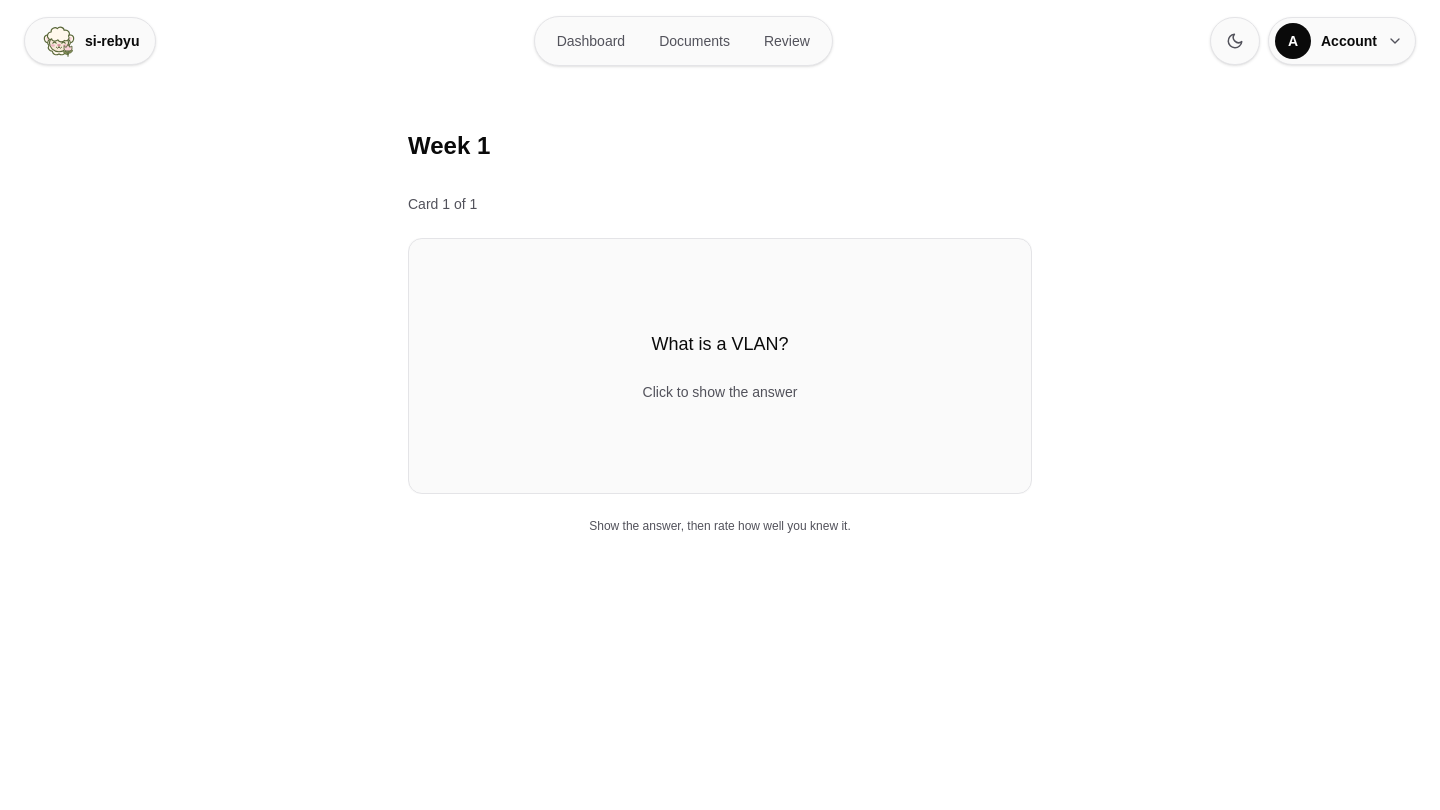
Scenario: FlashcardSession › finishing shows the summary and calls onDone, ending the session
Later steps or results of the test are not shown.
Click the text "What is a VLAN?". click: (720, 344)
box: [652,334,789,354]
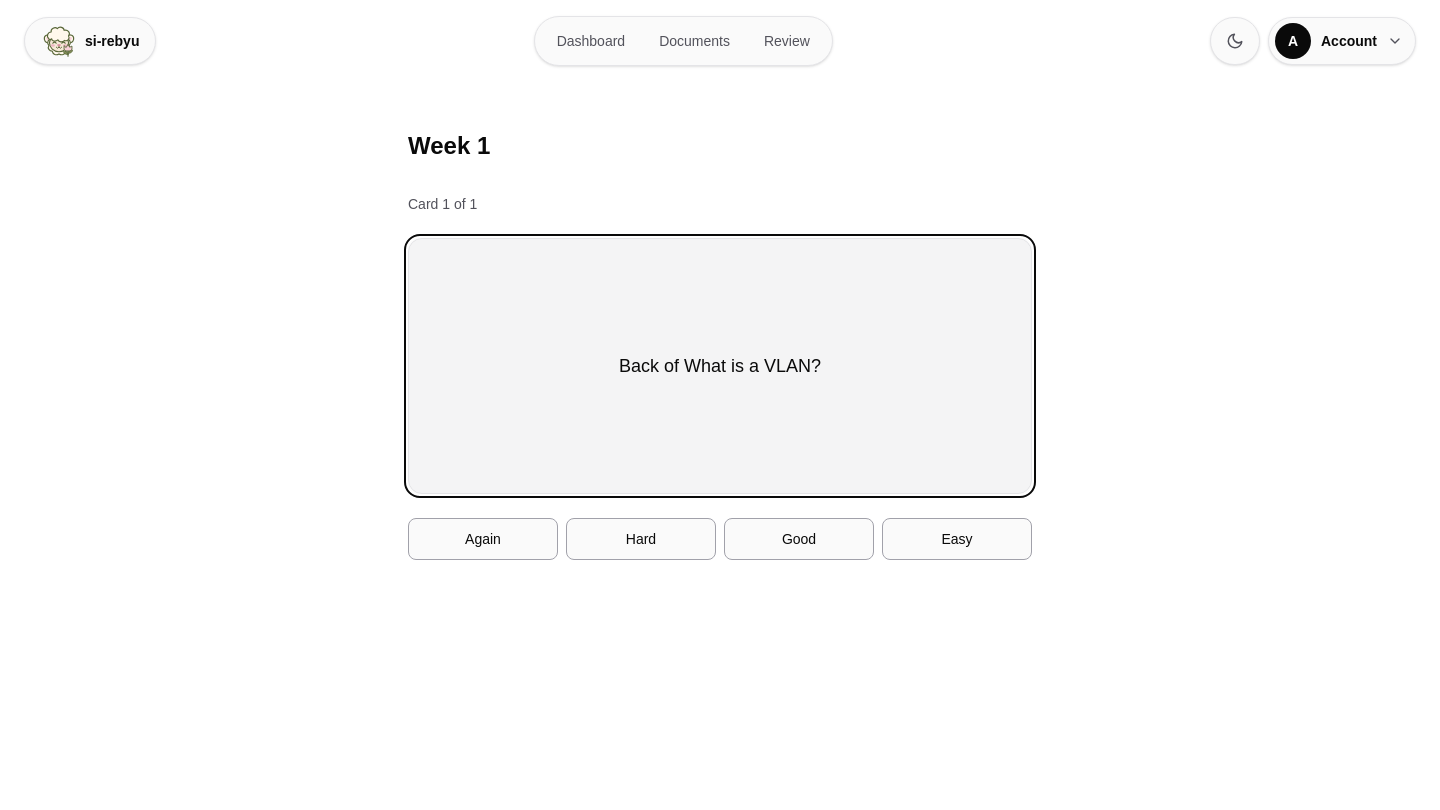
Click the button "Good". click: (799, 539)
box: [724,518,874,560]
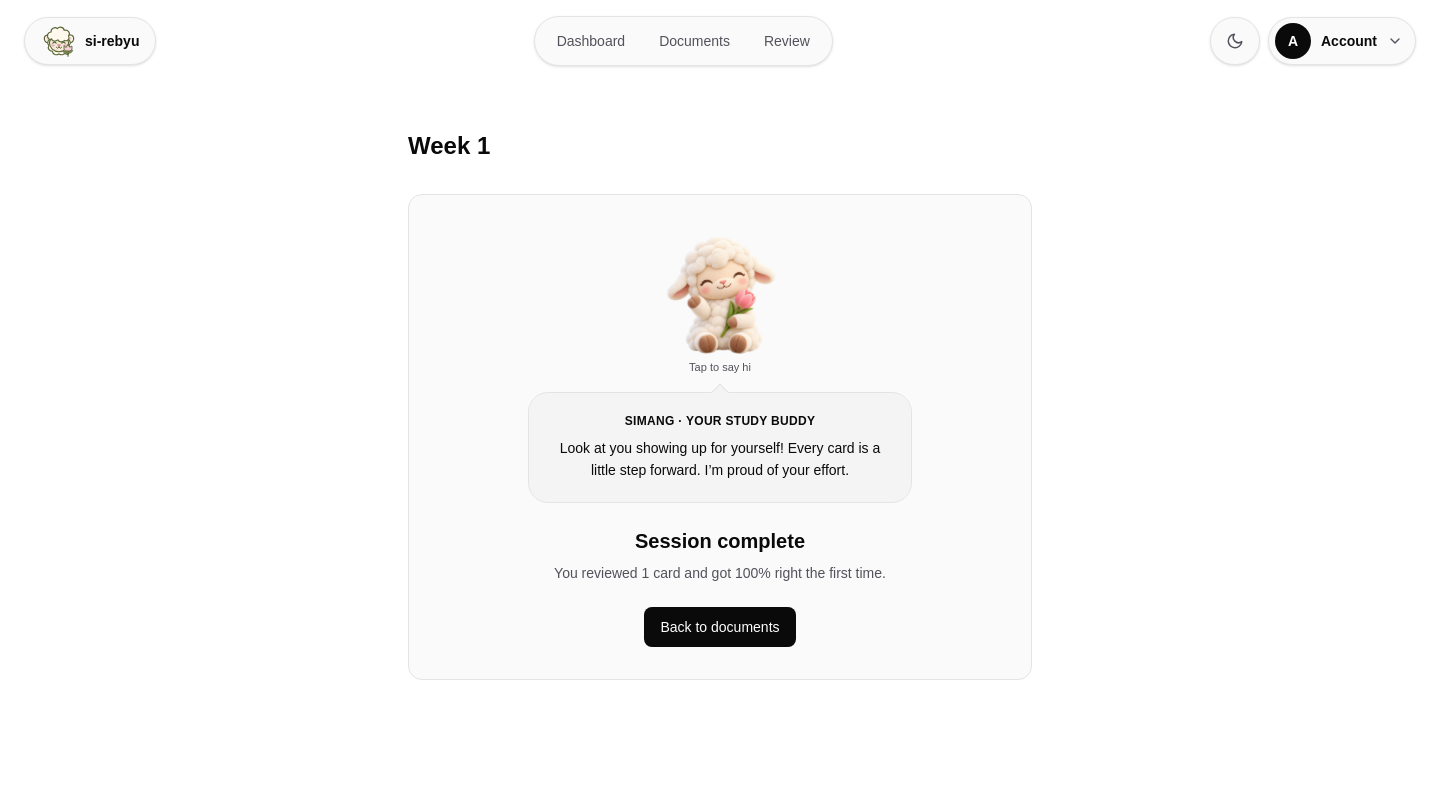
Check: the heading "Session complete" is shown, box [635,530,805,552]
